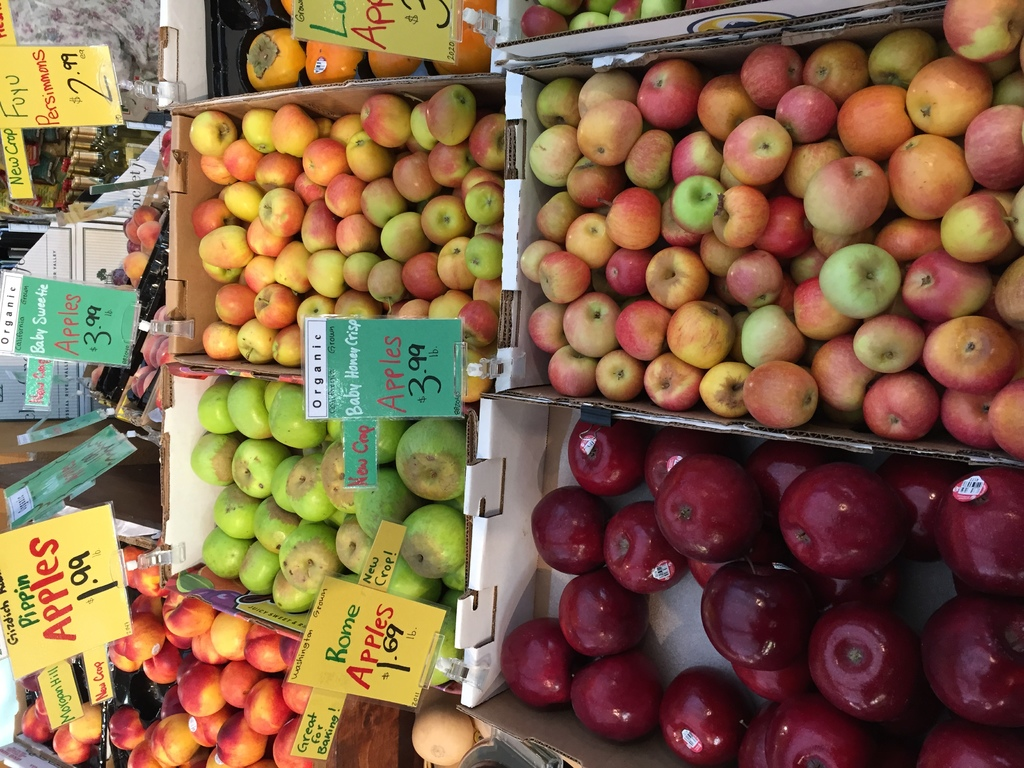Apple: (519, 0, 1023, 463), (494, 416, 1023, 767), (188, 108, 506, 402), (108, 545, 309, 767), (515, 0, 731, 35), (814, 234, 909, 311), (128, 307, 170, 396), (121, 209, 162, 292), (67, 702, 103, 741), (14, 705, 48, 744), (50, 727, 90, 760)
